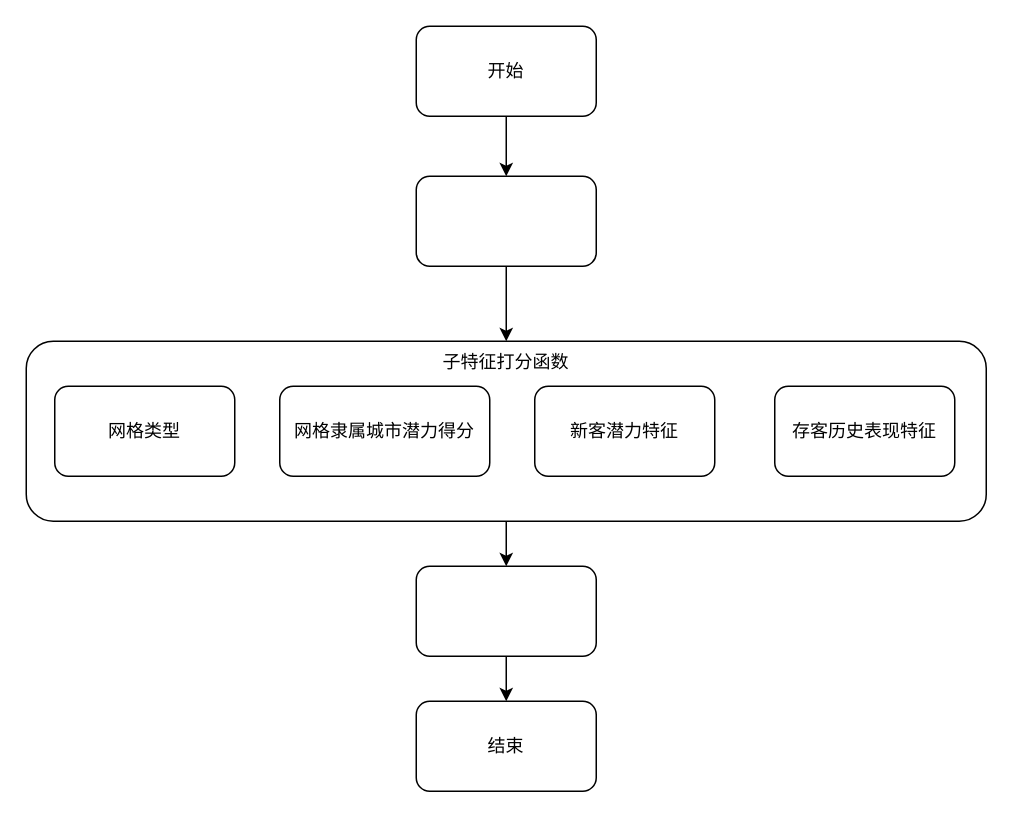
This 1013x818 diagram has some shape labels left out. The shapes that lost their labels are listed below. From the top down, each one's centre as x and y in pixels, then its label:
At point 505,220: "归一化函数".
At point 505,610: "网格综合评分".
